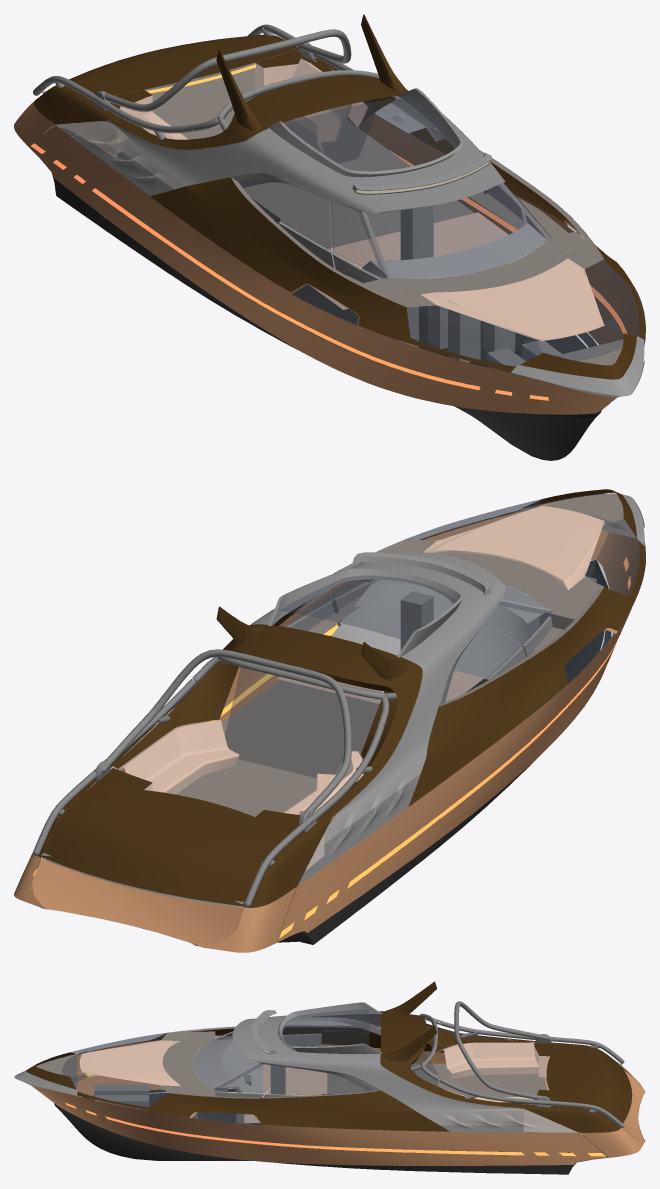
The model's file is speedboat.glb.
3 renders of one model, top to bottom at view 1: azimuth 30°, elevation 25°; view 2: azimuth 150°, elevation 25°; view 3: azimuth 270°, elevation 25°, orthographic. The views are drawn at different scales.
Bounding box in the file's own units: 1.97 × 1.71 × 6.2.
